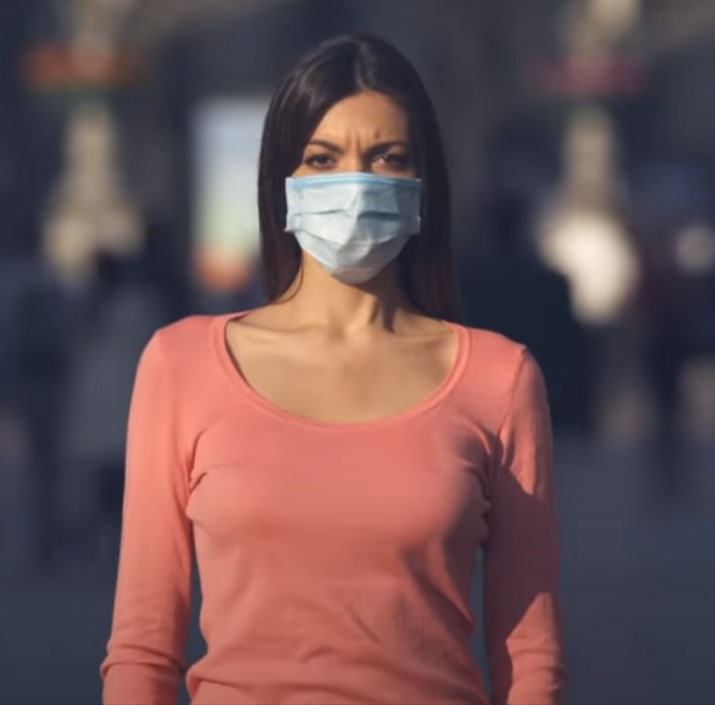face_with_mask: (278, 49, 425, 285)
